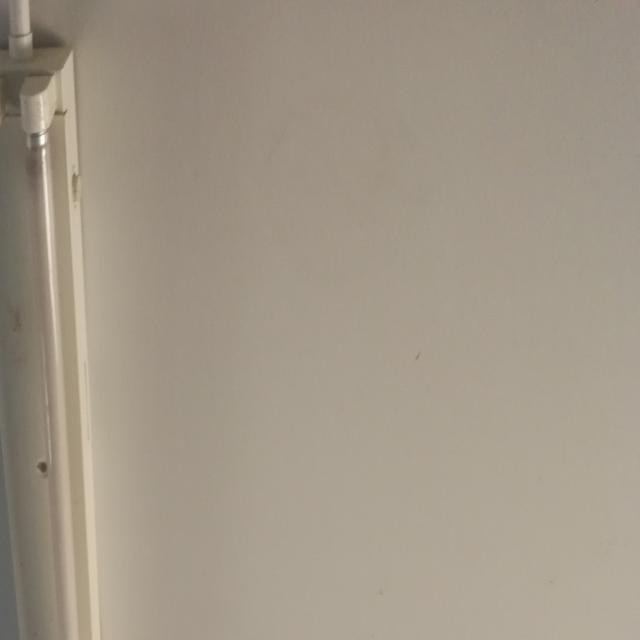fluorescent tube: (0, 19, 145, 639)
